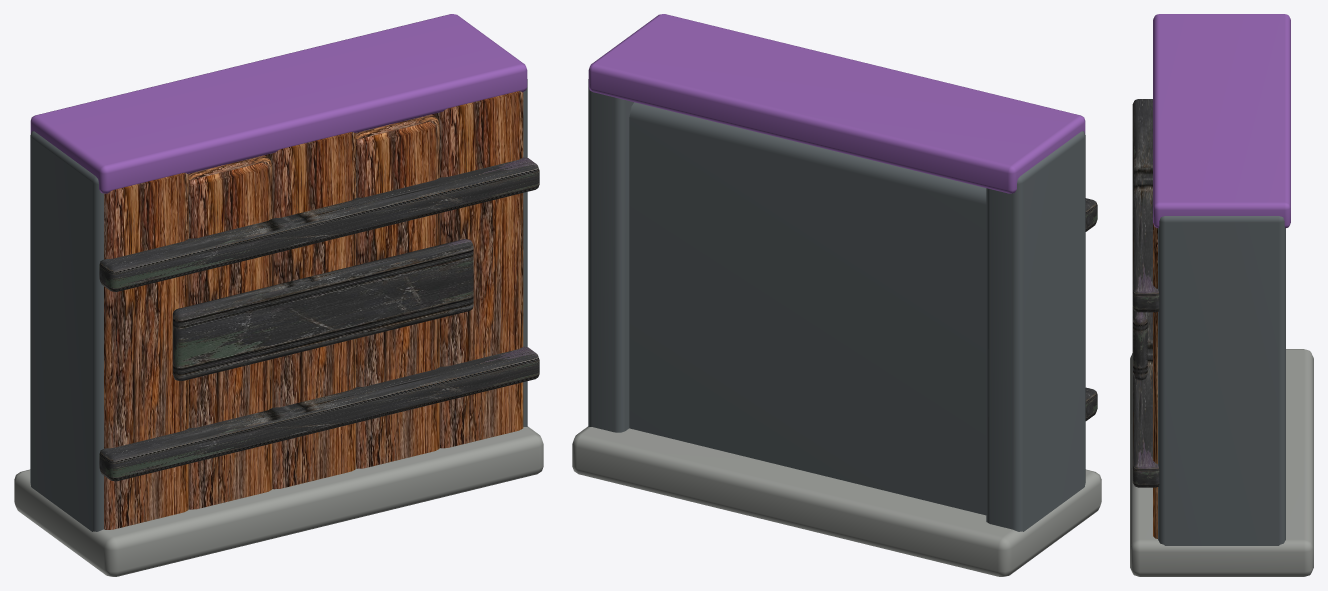
File: wall_l02-2.glb
The picture shows the model from 3 angles, left to right: view 1: azimuth 30°, elevation 25°; view 2: azimuth 150°, elevation 25°; view 3: azimuth 270°, elevation 25°; orthographic projection. The views are drawn at different scales.
Visible parts, largest first — view 1: DZN_wall_L02; view 2: DZN_wall_L02; view 3: DZN_wall_L02.
Part boxes in pixels (x1=…): DZN_wall_L02: x1=14, y1=14, x2=543, y2=576; DZN_wall_L02: x1=572, y1=14, x2=1101, y2=576; DZN_wall_L02: x1=1130, y1=14, x2=1313, y2=576.
Size of the model in its own units: 1.94 by 1.7 by 0.76.
6 materials, 2 textured.
